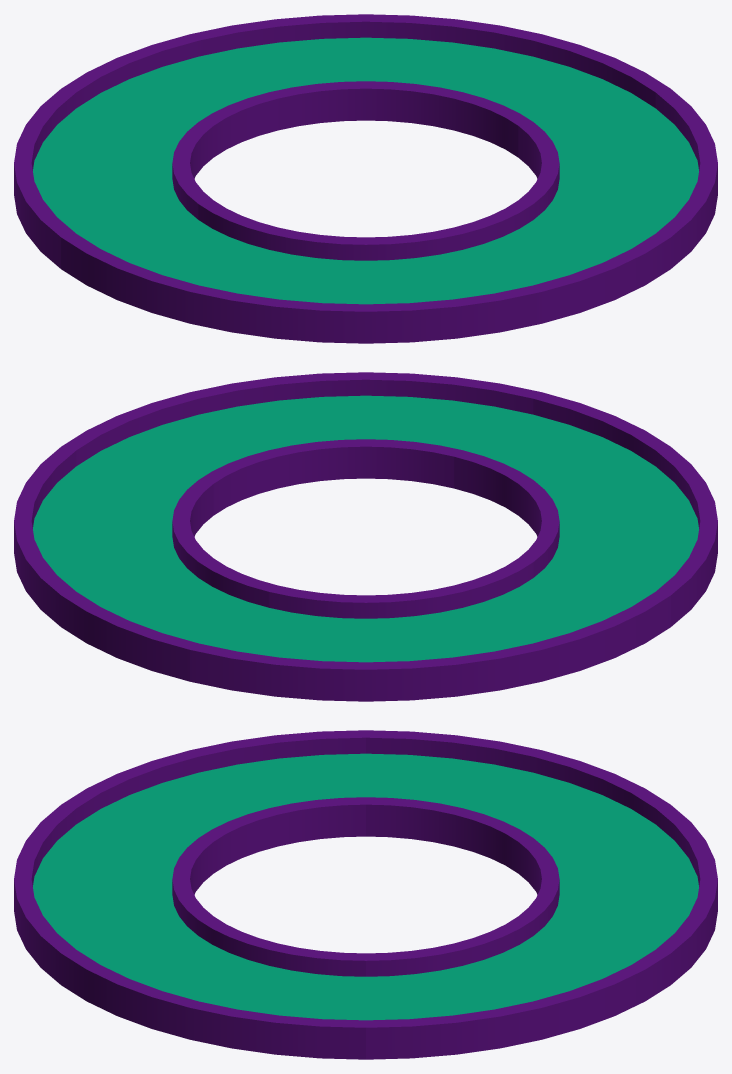
The model's file is BossCircuit.fbx.
The picture shows the model from 3 angles, top to bottom: view 1: azimuth 30°, elevation 25°; view 2: azimuth 150°, elevation 25°; view 3: azimuth 270°, elevation 25°; orthographic projection.
Visible parts, largest first — view 1: mergedBlocks; view 2: mergedBlocks; view 3: mergedBlocks.
Boxes of the visible parts, bbox=[...] form: mergedBlocks: bbox=[14, 14, 717, 343]; mergedBlocks: bbox=[14, 372, 717, 701]; mergedBlocks: bbox=[14, 730, 717, 1059].
Size of the model in its own units: 40 by 2 by 40.
